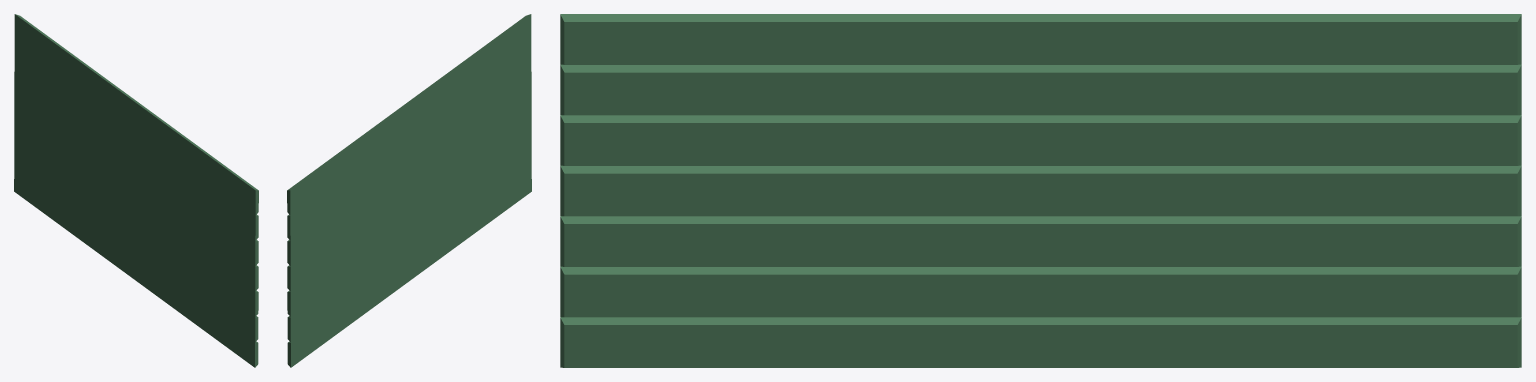
File: animated_backward.fbx
3 views of the same model, side by side, from view 1: azimuth 30°, elevation 25°; view 2: azimuth 150°, elevation 25°; view 3: azimuth 270°, elevation 25° (orthographic). The views are drawn at different scales.
Visible parts, largest first — view 1: dveri; view 2: dveri; view 3: dveri.
Boxes of the visible parts, left/top/right/bottom form: dveri: left=14, top=14, right=258, bottom=367; dveri: left=287, top=14, right=531, bottom=367; dveri: left=560, top=14, right=1521, bottom=367.
Size of the model in its own units: 0.2636 by 9.23 by 22.7.
